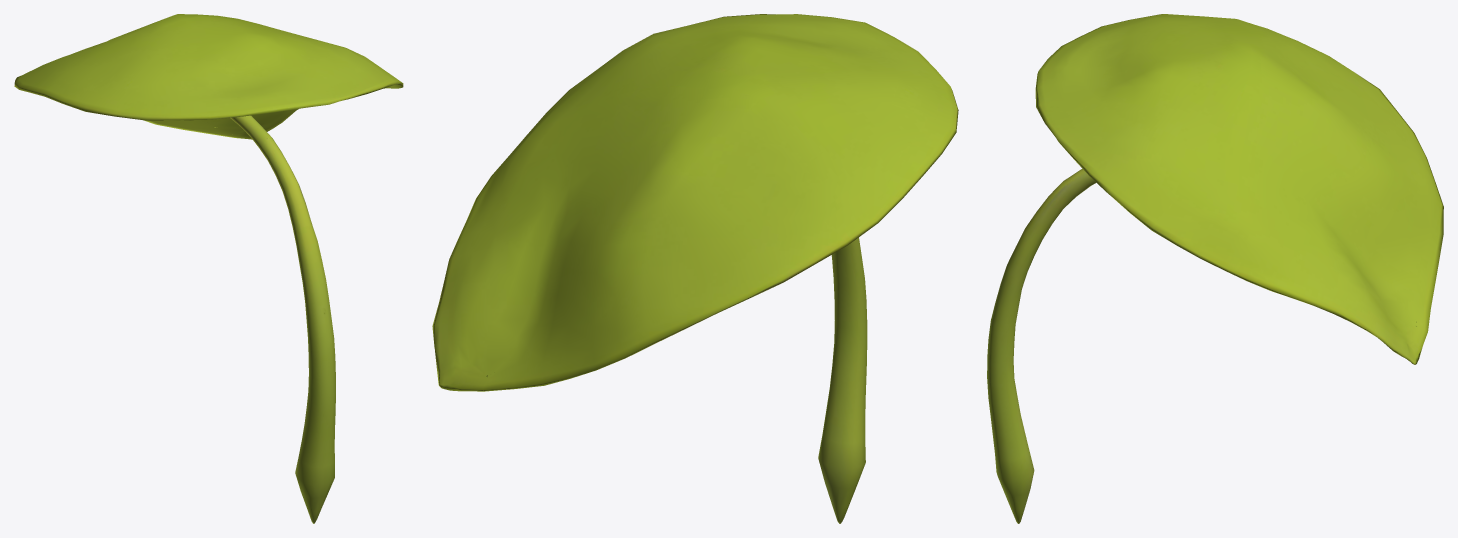
The model's file is monstera_leaf_young.glb.
3 views of the same model, side by side, from view 1: azimuth 30°, elevation 25°; view 2: azimuth 150°, elevation 25°; view 3: azimuth 270°, elevation 25° (orthographic). The views are drawn at different scales.
Parts seen in each view (by area): view 1: tripo_node_fdcb81b3-4816-40bc-a763-84668fcb696d; view 2: tripo_node_fdcb81b3-4816-40bc-a763-84668fcb696d; view 3: tripo_node_fdcb81b3-4816-40bc-a763-84668fcb696d.
Part boxes in pixels (x1,y1,x2,y2): tripo_node_fdcb81b3-4816-40bc-a763-84668fcb696d: (14, 14, 403, 523); tripo_node_fdcb81b3-4816-40bc-a763-84668fcb696d: (432, 14, 958, 523); tripo_node_fdcb81b3-4816-40bc-a763-84668fcb696d: (987, 14, 1443, 523).
Bounding box in the file's own units: 0.8101 × 0.9943 × 0.8959.
Materials: 1 (1 with a texture image).
